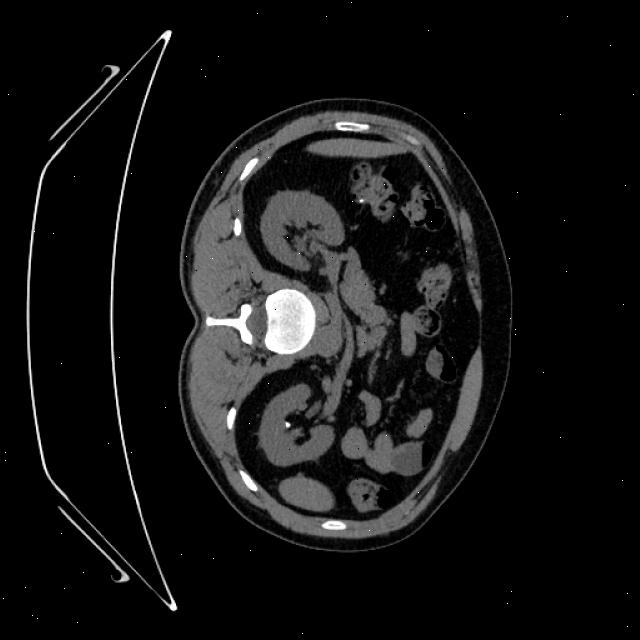kidneystone: (284, 421, 290, 429)
